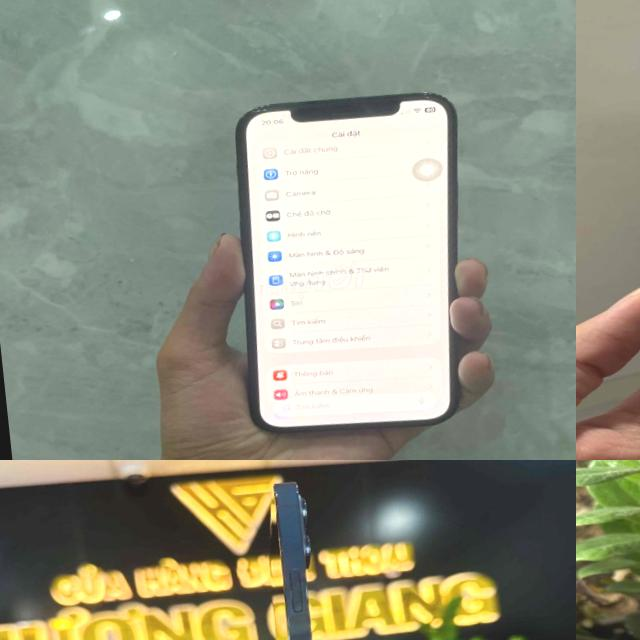gen_12_13: (198, 68, 496, 448), (256, 470, 349, 640)
